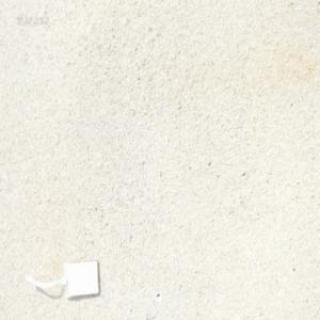LuggageTagtrack_idkeyframe: (23, 256, 97, 301)
